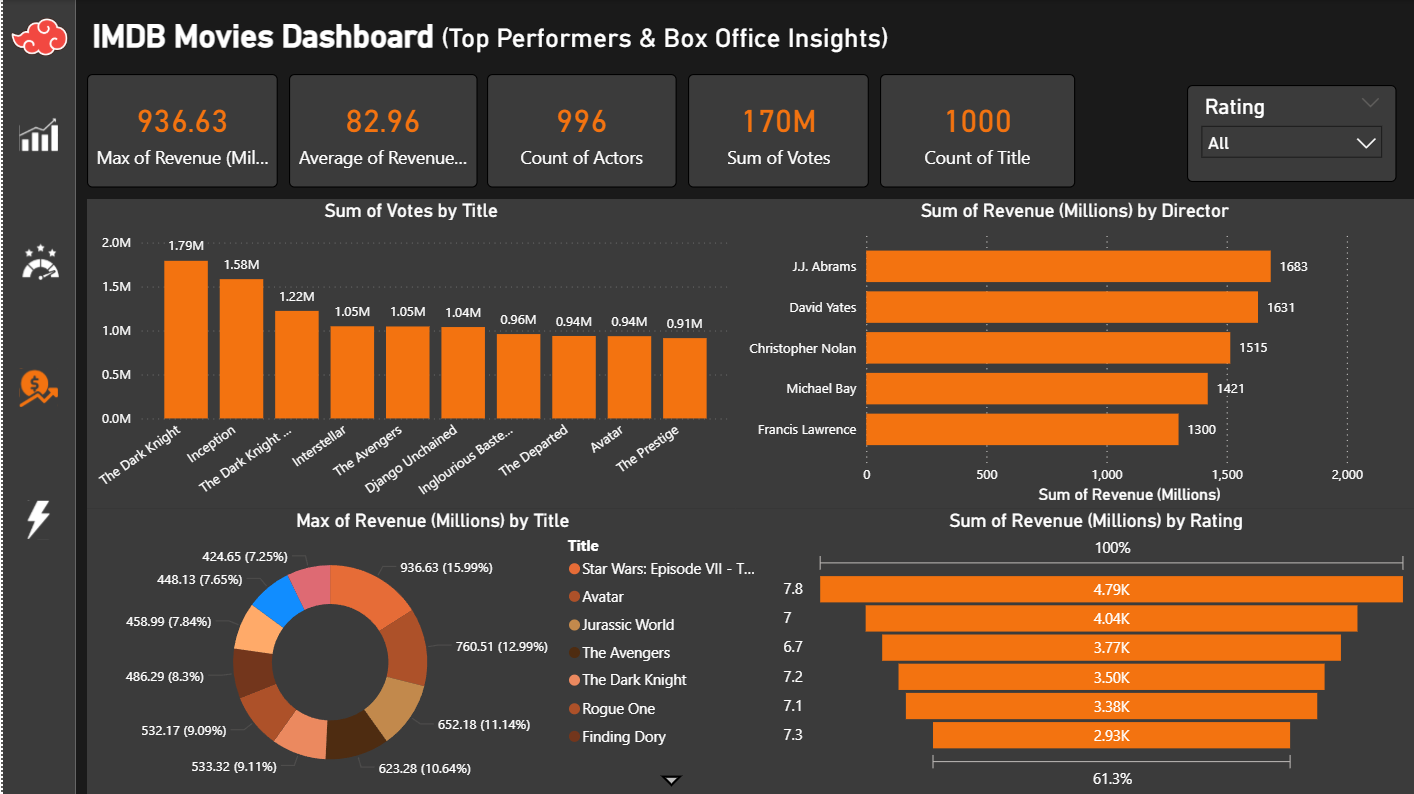

Layout of this report page (visuals, bound fields, positions):
{"tool":"powerbi","page":{"name":"Top Movies","canvas":[1280,720],"ordinal":2},"visuals":[{"type":"shape","box":[0,0,66.3,720.2],"z":0},{"type":"actionButton","box":[11,99.4,42.9,44.2],"z":1000},{"type":"actionButton","box":[12.3,214.7,42.9,44.2],"z":2000},{"type":"actionButton","box":[11,328.8,42.9,44.2],"z":3000},{"type":"actionButton","box":[11,449.1,42.9,44.2],"z":4000},{"type":"image","box":[0,0,66.3,67.5],"z":5000},{"type":"shape","box":[66.3,0,1213.5,720.2],"z":6000},{"type":"textbox","box":[76.1,11,754.6,44.2],"z":7000},{"type":"slicer","fields":{"Values":["IMDB-Movie-Data_Org.Rating"]},"box":[1073.6,77.3,190.2,88.3],"z":8000},{"type":"card","fields":{"Values":["Max(IMDB-Movie-Data_Org.Revenue (Millions))"]},"box":[76.1,67.5,173,103.1],"z":9000},{"type":"card","fields":{"Values":["Avg(IMDB-Movie-Data_Org.Revenue (Millions))"]},"box":[258.9,67.5,170.6,103.1],"z":10000},{"type":"card","fields":{"Values":["Count(IMDB-Movie-Data_Org.Actors)"]},"box":[439.3,67.5,171.8,103.1],"z":11000},{"type":"card","fields":{"Values":["Sum(IMDB-Movie-Data_Org.Votes)"]},"box":[620.9,67.5,164.4,103.1],"z":12000},{"type":"card","fields":{"Values":["CountNonNull(IMDB-Movie-Data_Org.Title)"]},"box":[795.1,67.5,176.7,103.1],"z":13000},{"type":"barChart","fields":{"Category":["IMDB-Movie-Data_Org.Director"],"Y":["Sum(IMDB-Movie-Data_Org.Revenue (Millions))"]},"box":[663.8,180.4,616,281],"z":14000},{"type":"columnChart","fields":{"Category":["IMDB-Movie-Data_Org.Title"],"Y":["Sum(IMDB-Movie-Data_Org.Votes)"]},"box":[76.1,180.4,587.7,281],"z":15000},{"type":"donutChart","fields":{"Y":["Max(IMDB-Movie-Data_Org.Revenue (Millions))"],"Category":["IMDB-Movie-Data_Org.Title"]},"box":[76.1,461.4,627,258.9],"z":16000},{"type":"funnel","fields":{"Category":["IMDB-Movie-Data_Org.Rating"],"Y":["Sum(IMDB-Movie-Data_Org.Revenue (Millions))"]},"box":[703.1,461.4,576.7,258.9],"z":17000}]}

Visuals, with their boxes in screenshot pixels (x1, y1, x2, y2), scaled from the page's 1280x720 canvas onto the 1414x794 screenshot:
shape: x1=0, y1=0, x2=73, y2=793
actionButton: x1=12, y1=110, x2=60, y2=158
actionButton: x1=14, y1=237, x2=61, y2=286
actionButton: x1=12, y1=363, x2=60, y2=411
actionButton: x1=12, y1=495, x2=60, y2=544
image: x1=0, y1=0, x2=73, y2=74
shape: x1=73, y1=0, x2=1413, y2=793
textbox: x1=84, y1=12, x2=918, y2=61
slicer - IMDB-Movie-Data_Org.Rating: x1=1186, y1=85, x2=1396, y2=183
card - Max(IMDB-Movie-Data_Org.Revenue (Millions)): x1=84, y1=74, x2=275, y2=188
card - Avg(IMDB-Movie-Data_Org.Revenue (Millions)): x1=286, y1=74, x2=474, y2=188
card - Count(IMDB-Movie-Data_Org.Actors): x1=485, y1=74, x2=675, y2=188
card - Sum(IMDB-Movie-Data_Org.Votes): x1=686, y1=74, x2=868, y2=188
card - CountNonNull(IMDB-Movie-Data_Org.Title): x1=878, y1=74, x2=1074, y2=188
barChart - IMDB-Movie-Data_Org.Director x Sum(IMDB-Movie-Data_Org.Revenue (Millions)): x1=733, y1=199, x2=1413, y2=509
columnChart - IMDB-Movie-Data_Org.Title x Sum(IMDB-Movie-Data_Org.Votes): x1=84, y1=199, x2=733, y2=509
donutChart - Max(IMDB-Movie-Data_Org.Revenue (Millions)) x IMDB-Movie-Data_Org.Title: x1=84, y1=509, x2=777, y2=793
funnel - IMDB-Movie-Data_Org.Rating x Sum(IMDB-Movie-Data_Org.Revenue (Millions)): x1=777, y1=509, x2=1413, y2=793
